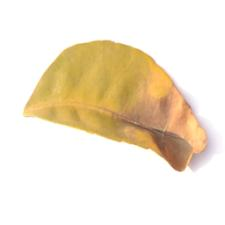Black: (112, 81, 208, 176)
